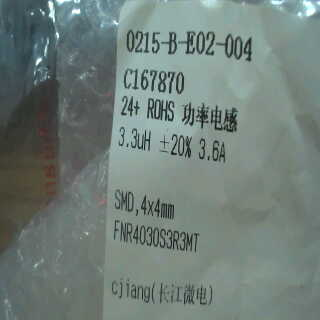3.3uH: (119, 122, 152, 156)
